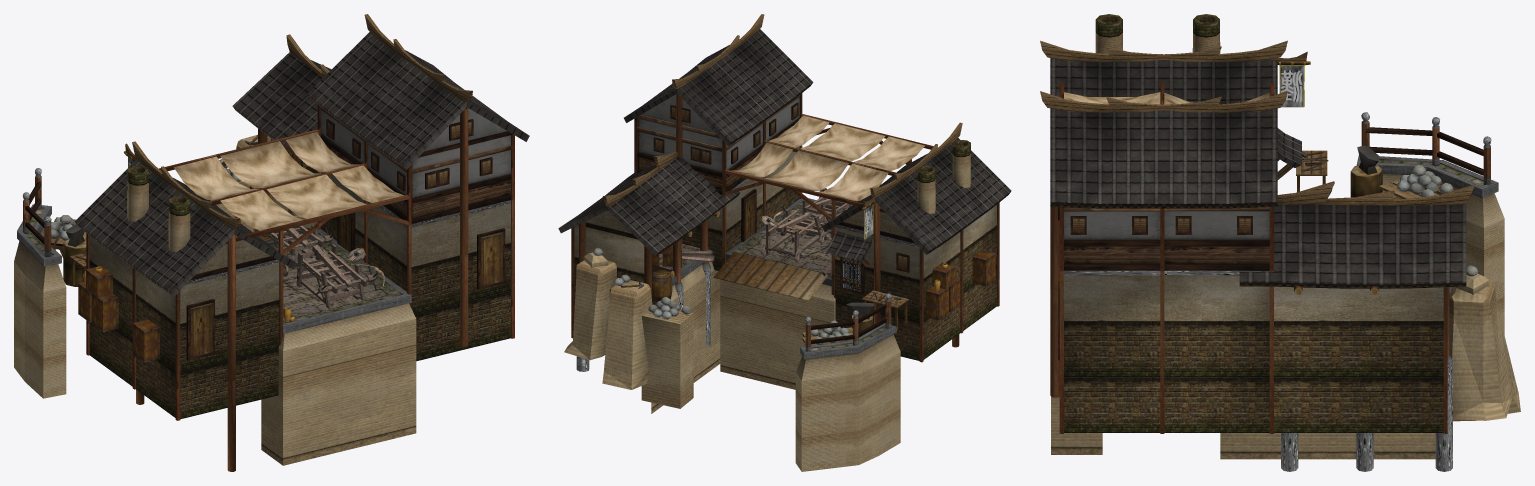
The model's file is arsenal.glb.
3 renders of one model, left to right at view 1: azimuth 30°, elevation 25°; view 2: azimuth 150°, elevation 25°; view 3: azimuth 270°, elevation 25°, orthographic. The views are drawn at different scales.
Parts seen in each view (by area): view 1: arsenal_part0, arsenal_part1, arsenal_part2; view 2: arsenal_part0, arsenal_part1, arsenal_part2; view 3: arsenal_part0, arsenal_part1.
Part boxes in pixels (x1,y1,x2,y2): arsenal_part0: [14, 14, 529, 471]; arsenal_part1: [174, 132, 403, 230]; arsenal_part2: [254, 208, 384, 308]; arsenal_part0: [558, 14, 1011, 471]; arsenal_part1: [732, 115, 924, 200]; arsenal_part2: [682, 188, 858, 277]; arsenal_part0: [1040, 14, 1520, 471]; arsenal_part1: [1064, 92, 1269, 104].
Bounding box in the file's own units: 5 × 4.39 × 4.88.
3 materials, 3 textured.
